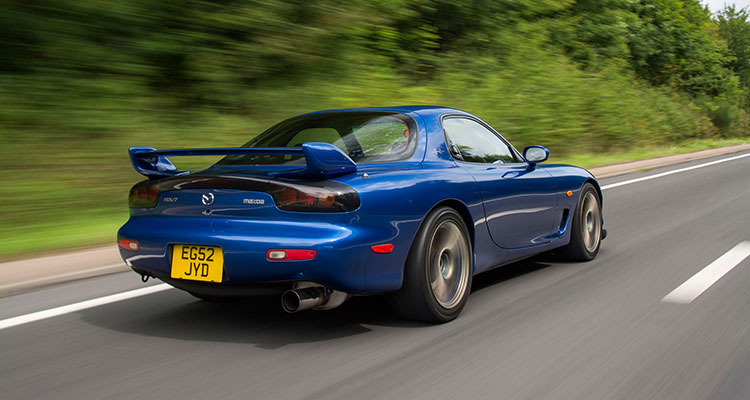plate: (170, 244, 224, 284)
